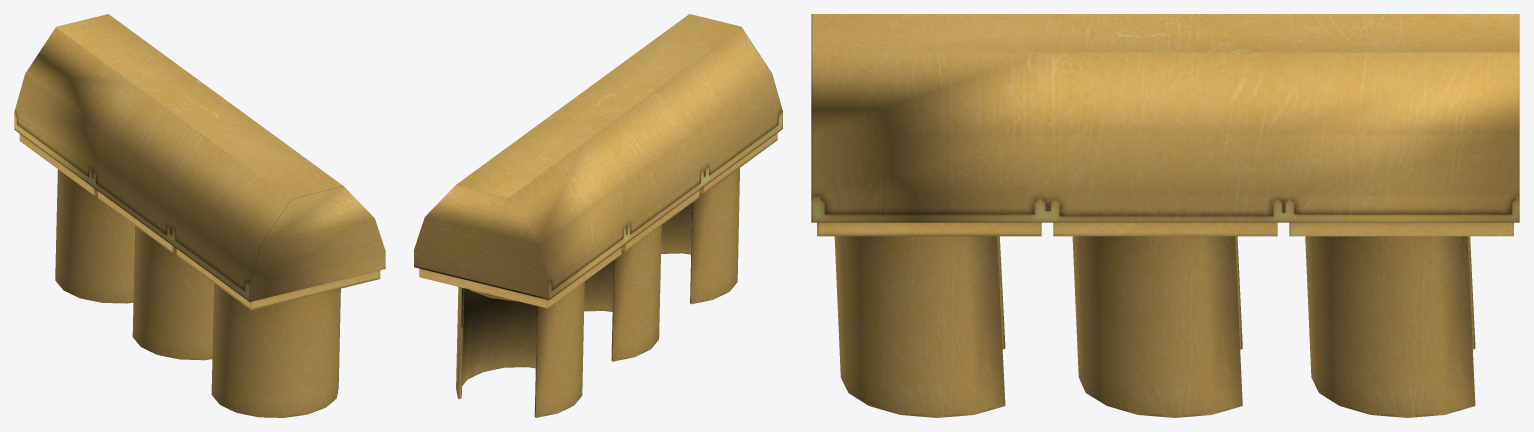
The model's file is trafficlight.fbx.
3 renders of one model, left to right at view 1: azimuth 30°, elevation 25°; view 2: azimuth 150°, elevation 25°; view 3: azimuth 270°, elevation 25°, orthographic. The views are drawn at different scales.
Visible parts, largest first — view 1: trafficlight; view 2: trafficlight; view 3: trafficlight.
Boxes of the visible parts, x1,y1,x2,y2 form: trafficlight: (14,14,385,417); trafficlight: (414,14,782,417); trafficlight: (811,14,1519,417).
Size of the model in its own units: 0.4 by 0.644 by 1.2.
